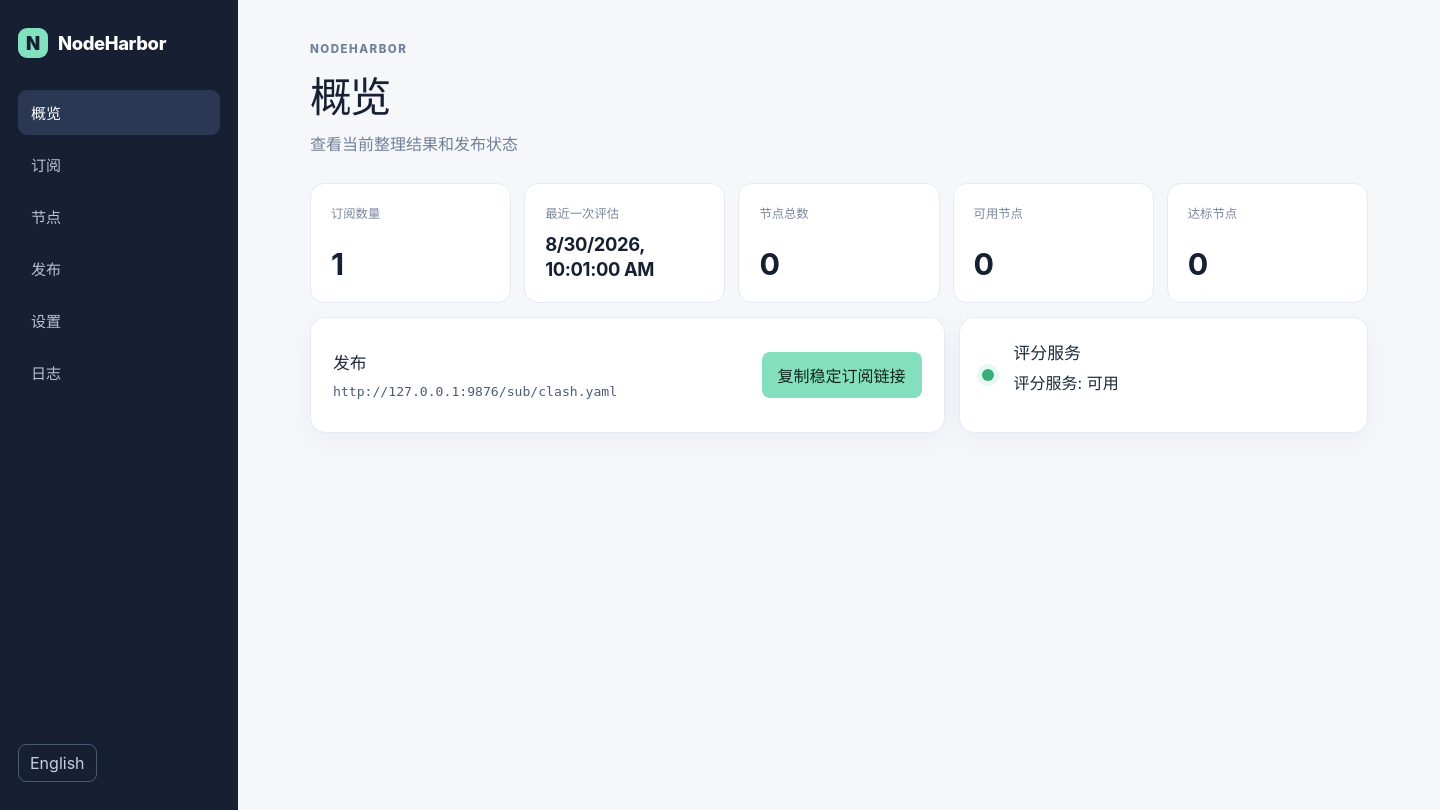
it: Nodes labels candidates without a completed result while an evaluation is running
The width and height of the screenshot is (1440, 810).
Click the link "节点" at (46, 218), box [31,208,61,227]
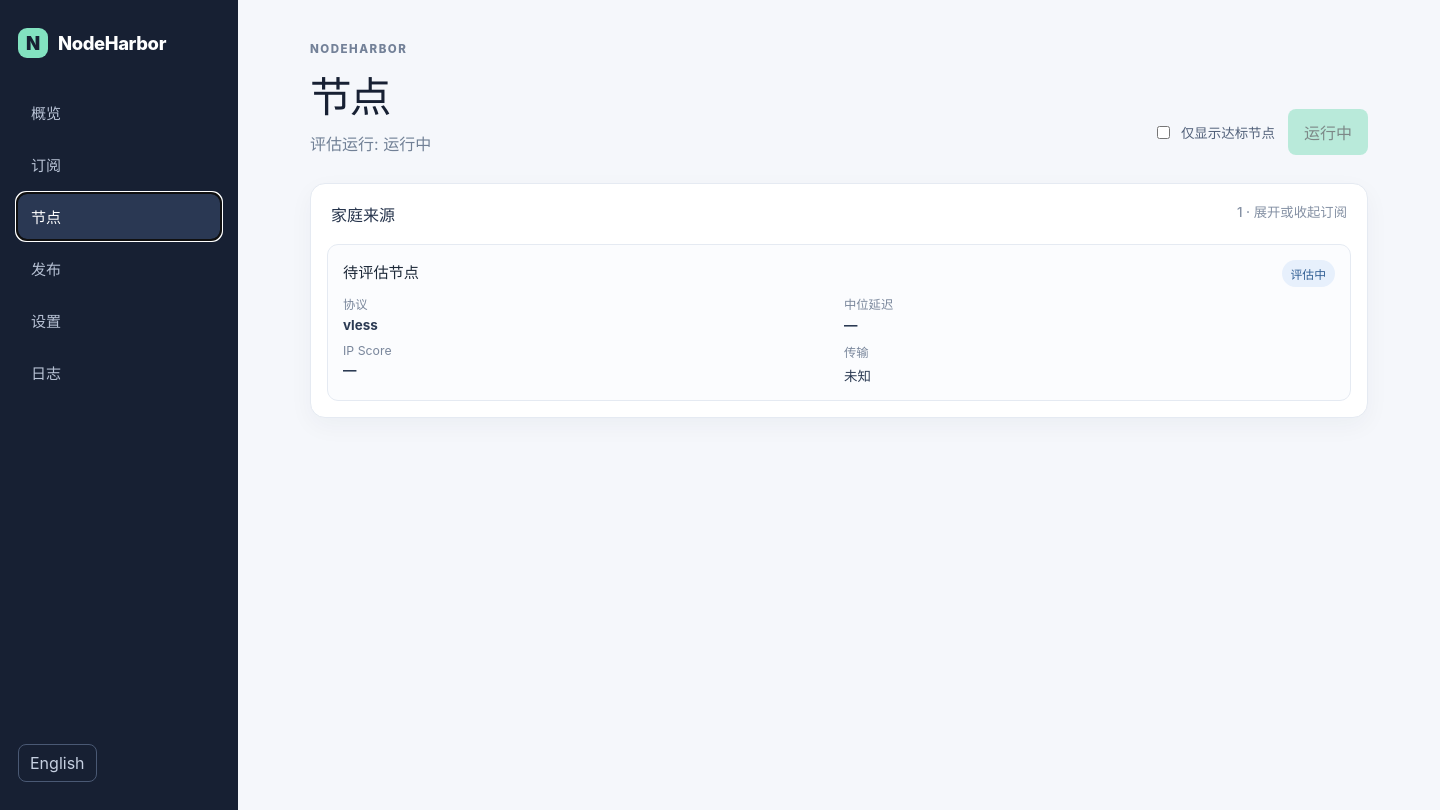
Now the text "评估中" is shown, box [1282,260,1335,287]
